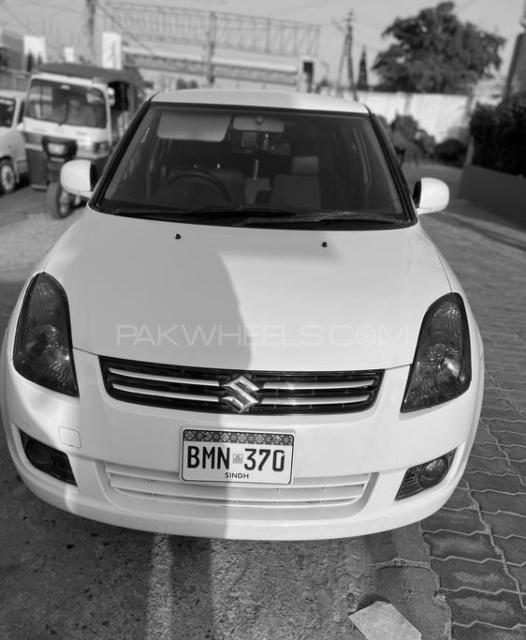Number: (185, 442, 289, 472)
